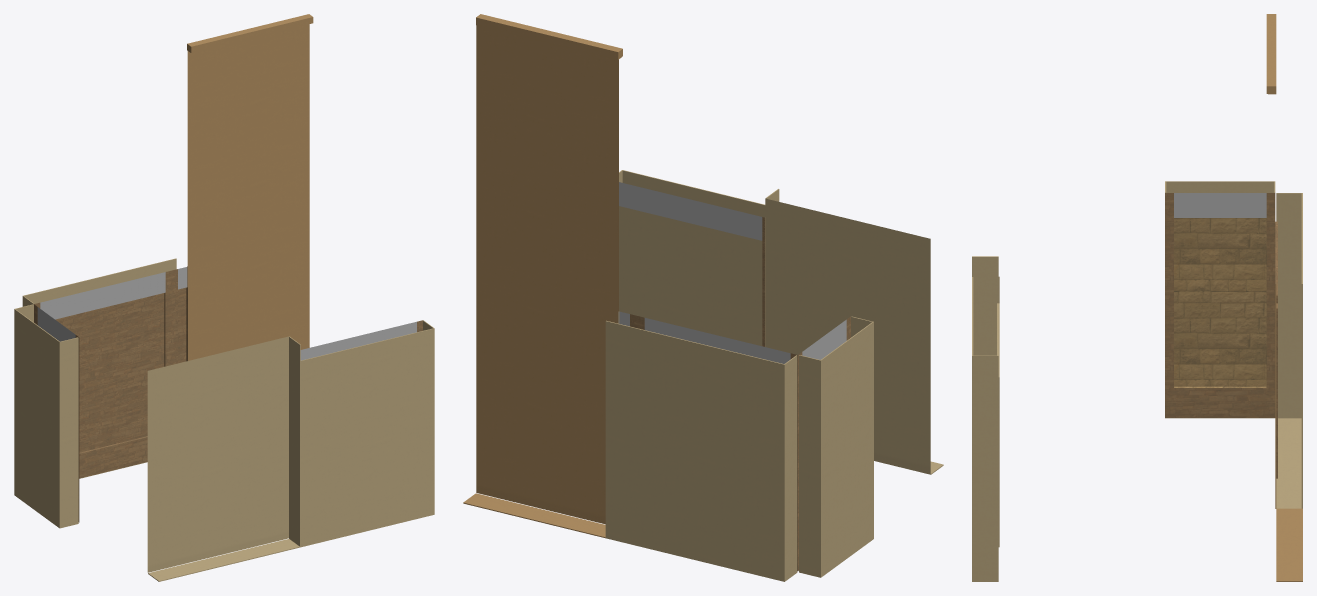
File: unit-link-south-west.glb
The picture shows the model from 3 angles, left to right: view 1: azimuth 30°, elevation 25°; view 2: azimuth 150°, elevation 25°; view 3: azimuth 270°, elevation 25°; orthographic projection. The views are drawn at different scales.
Parts seen in each view (by area): view 1: bz06_pale_lime-cast, bz06_sand_plaster-cast, bz06_service_stone-cast, ph_bz04_stone_trim_sandstone-cast; view 2: bz06_pale_lime-cast, bz06_sand_plaster-cast, ph_bz04_stone_trim_sandstone-cast, bz06_service_stone-cast; view 3: bz06_pale_lime-cast, bz06_dressed_sandstone-cast, bz06_service_stone-cast, bz06_sand_plaster-cast, ph_bz04_stone_trim_sandstone-cast.
Boxes of the visible parts, box(x1,y1,x2,y2) form: bz06_pale_lime-cast: box(14, 258, 434, 581); bz06_sand_plaster-cast: box(187, 14, 313, 360); bz06_service_stone-cast: box(34, 269, 423, 522); ph_bz04_stone_trim_sandstone-cast: box(37, 266, 416, 360); bz06_pale_lime-cast: box(605, 170, 943, 581); bz06_sand_plaster-cast: box(463, 14, 622, 538); ph_bz04_stone_trim_sandstone-cast: box(618, 182, 846, 363); bz06_service_stone-cast: box(630, 217, 850, 571); bz06_pale_lime-cast: box(972, 181, 1302, 581); bz06_dressed_sandstone-cast: box(1174, 218, 1266, 387); bz06_service_stone-cast: box(1165, 193, 1277, 478); bz06_sand_plaster-cast: box(1266, 14, 1302, 581); ph_bz04_stone_trim_sandstone-cast: box(1174, 193, 1266, 217).
Size of the model in its own units: 7.5 by 9.92 by 6.
5 materials, 4 textured.
